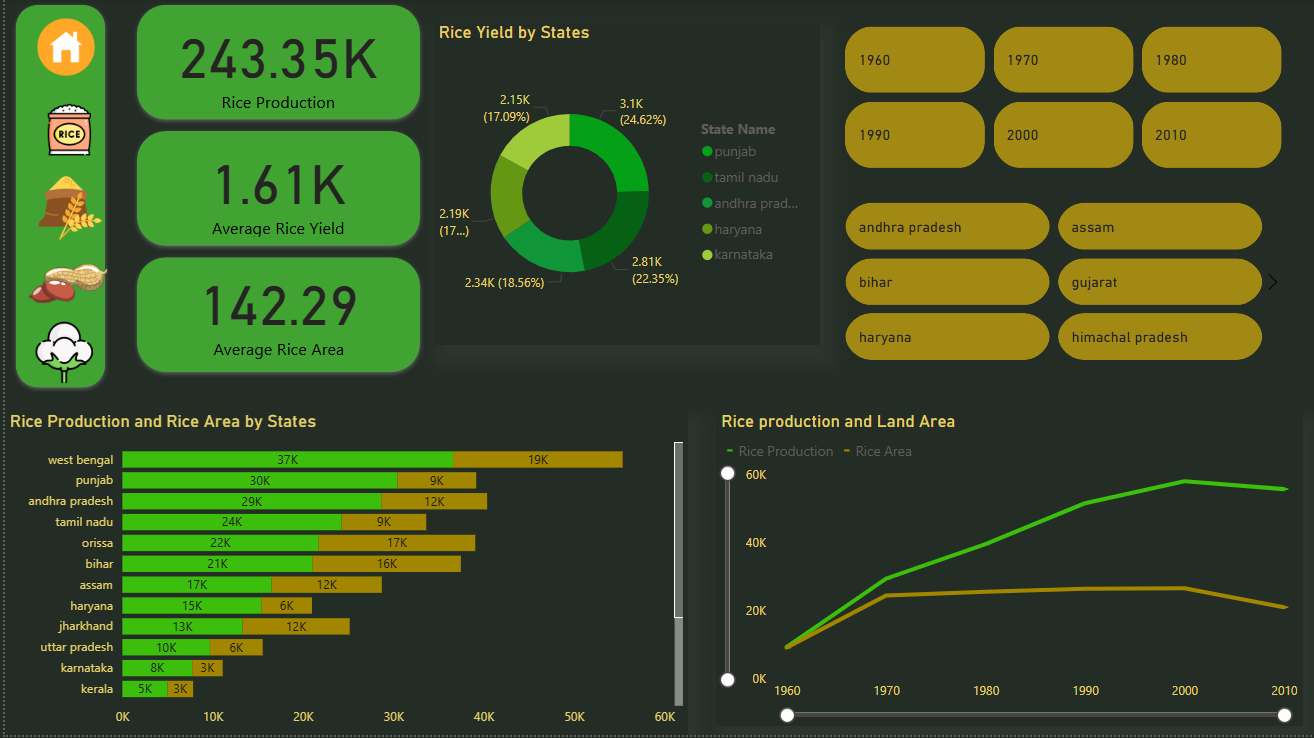

The dashboard page shown, as its layout file describes it:
{"tool":"powerbi","page":{"name":"Rice","canvas":[1280,720],"ordinal":1},"visuals":[{"type":"shape","box":[123.8,0,288.2,123.5],"z":0},{"type":"card","title":"RIce Production","fields":{"Values":["Measure.Total Rice Production"]},"box":[147.1,11,241.5,102.9],"z":1000},{"type":"advancedSlicerVisual","fields":{"Values":["rain-agriculture.Year group (bins)"]},"box":[816.5,22,439.1,149.6],"z":2000},{"type":"advancedSlicerVisual","fields":{"Values":["rain-agriculture.State Name"]},"box":[797.3,194.9,458.3,164.7],"z":3000},{"type":"shape","box":[123.8,123.5,288.2,123.5],"z":4000},{"type":"shape","box":[123.8,247,288.2,123.5],"z":5000},{"type":"lineChart","title":"Rice production and Land Area ","fields":{"Category":["rain-agriculture.Year group (bins)"],"Y":["Sum(rain-agriculture.RICE PRODUCTION (1000 tons))","Sum(rain-agriculture.RICE AREA (1000 ha))"]},"box":[695.7,402.1,573.6,308.7],"z":6000},{"type":"card","fields":{"Values":["Measure.Average Rice Yield"]},"box":[123.8,133.1,288.2,104.3],"z":7000},{"type":"shape","box":[5.5,0,98.8,385.6],"z":8000},{"type":"barChart","title":" Rice Production and Rice Area by States","fields":{"Category":["rain-agriculture.State Name"],"Y":["Sum(rain-agriculture.RICE PRODUCTION (1000 tons))","Sum(rain-agriculture.RICE AREA (1000 ha))"]},"box":[0,402.1,668.3,318.4],"z":9000},{"type":"donutChart","title":" Rice Yield by States","fields":{"Y":["Measure.Average Rice Yield"],"Category":["rain-agriculture.State Name"]},"box":[419.9,22,377.4,317],"z":10000},{"type":"image","box":[32.9,97.4,60.4,60.4],"z":11000},{"type":"image","box":[22,161.9,83.7,85.1],"z":12000},{"type":"image","box":[15.1,230.5,94.7,94.7],"z":13000},{"type":"image","box":[23.3,307.4,70,78.2],"z":14000},{"type":"card","fields":{"Values":["Measure.Average Rice Area"]},"box":[118,237.4,299.1,133.1],"z":15000},{"type":"image","box":[27.4,11,65.9,71.4],"z":16000}]}

Visuals, with their boxes in screenshot pixels (x1, y1, x2, y2), scaled from the page's 1280x720 canvas onto the 1314x738 screenshot:
shape: locate(127, 0, 423, 127)
"RIce Production" card: locate(151, 11, 399, 117)
advancedSlicerVisual - rain-agriculture.Year group (bins): locate(838, 23, 1289, 176)
advancedSlicerVisual - rain-agriculture.State Name: locate(818, 200, 1289, 369)
shape: locate(127, 127, 423, 253)
shape: locate(127, 253, 423, 380)
"Rice production and Land Area " lineChart: locate(714, 412, 1303, 729)
card - Measure.Average Rice Yield: locate(127, 136, 423, 243)
shape: locate(6, 0, 107, 395)
" Rice Production and Rice Area by States" barChart: locate(0, 412, 686, 737)
" Rice Yield by States" donutChart: locate(431, 23, 818, 347)
image: locate(34, 100, 96, 162)
image: locate(23, 166, 109, 253)
image: locate(16, 236, 113, 333)
image: locate(24, 315, 96, 395)
card - Measure.Average Rice Area: locate(121, 243, 428, 380)
image: locate(28, 11, 96, 84)
